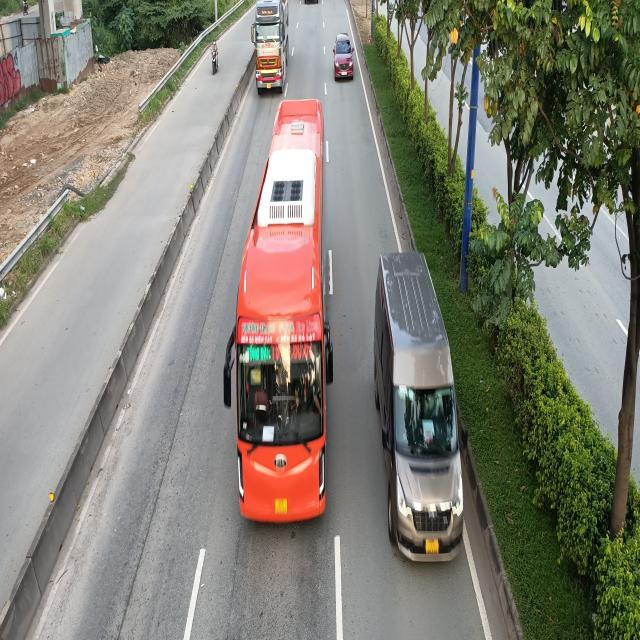car: (334, 33, 356, 80)
coach: (226, 87, 338, 528)
container: (252, 2, 290, 96)
van: (374, 257, 467, 568)
